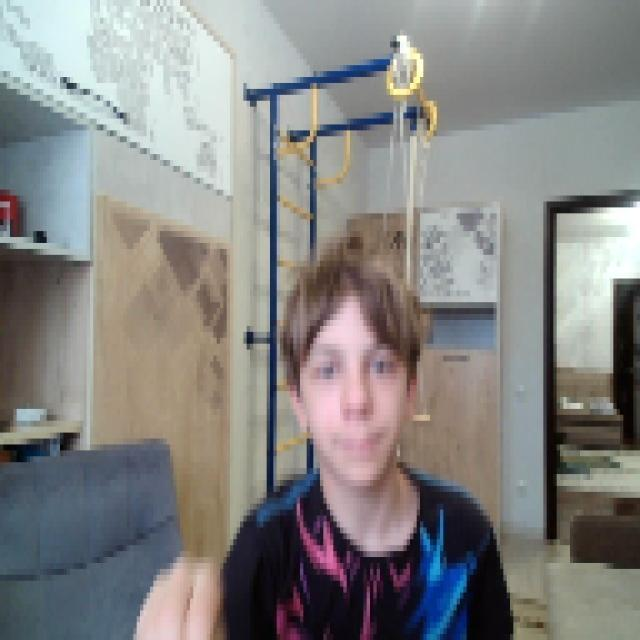left_click: (130, 545, 227, 634)
